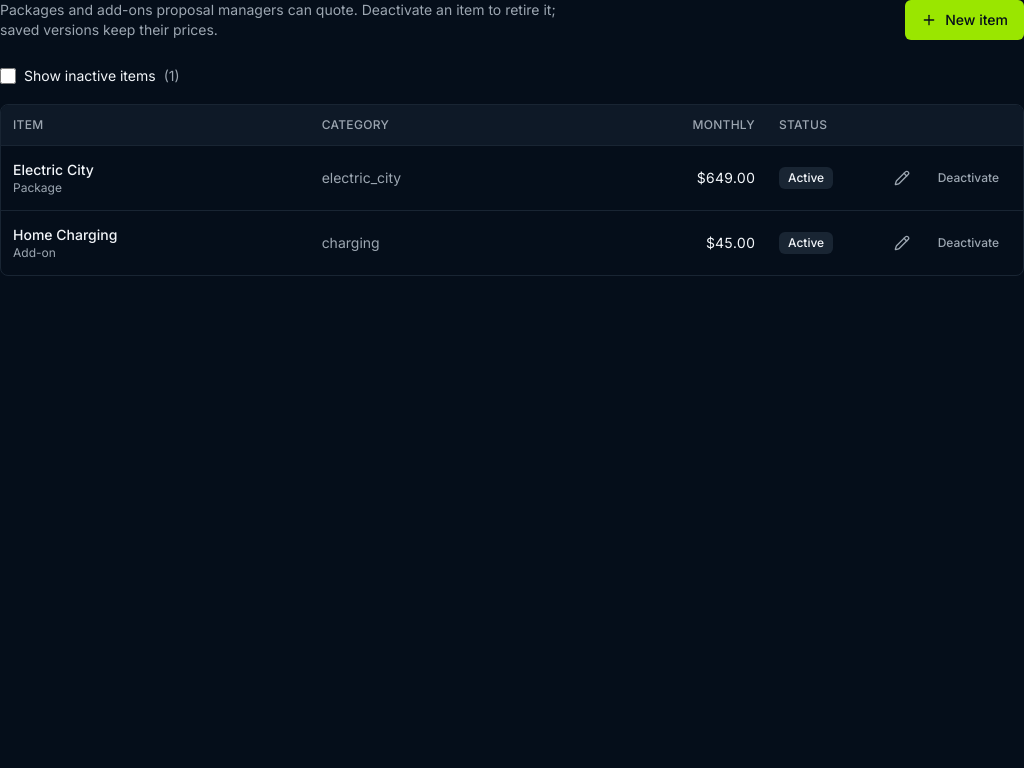
Test: CataloguePanel › shows the API error inside the edit dialog
What coordinates should you click on to do the following:
click the button named "Edit Electric City"
I would click on:
 (902, 178)
Its box is 882,158 -> 922,198.
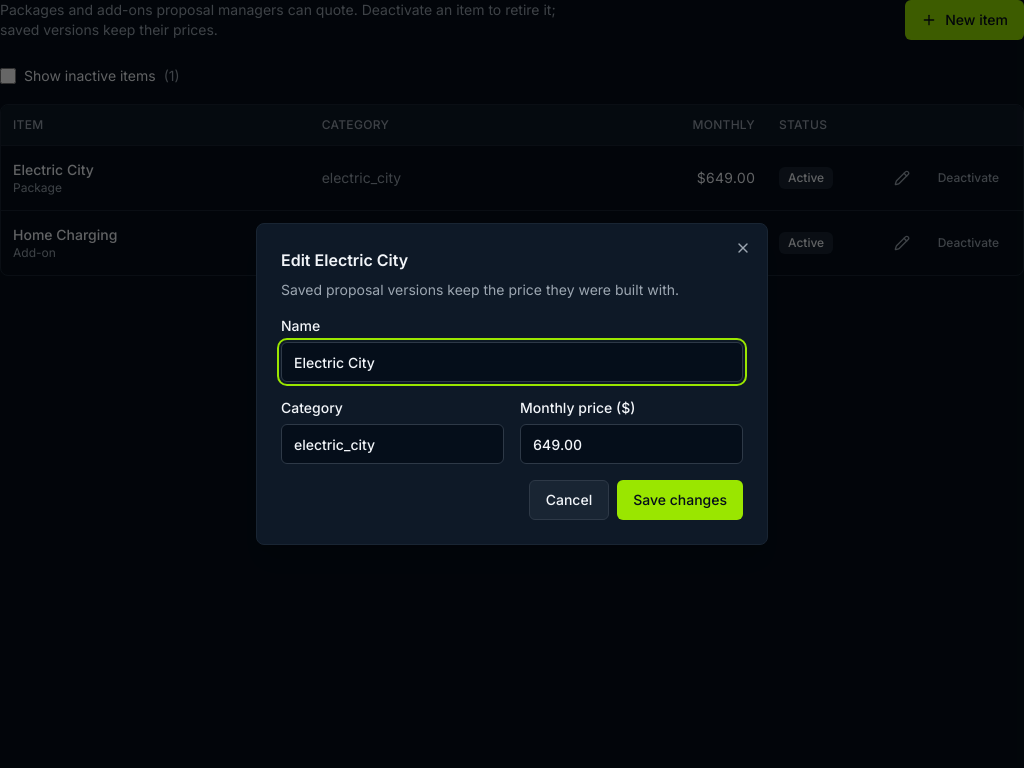
What coordinates should you click on to do the following:
click the button "Save changes"
I would click on:
 (680, 500)
Its box is 617,480 -> 743,520.
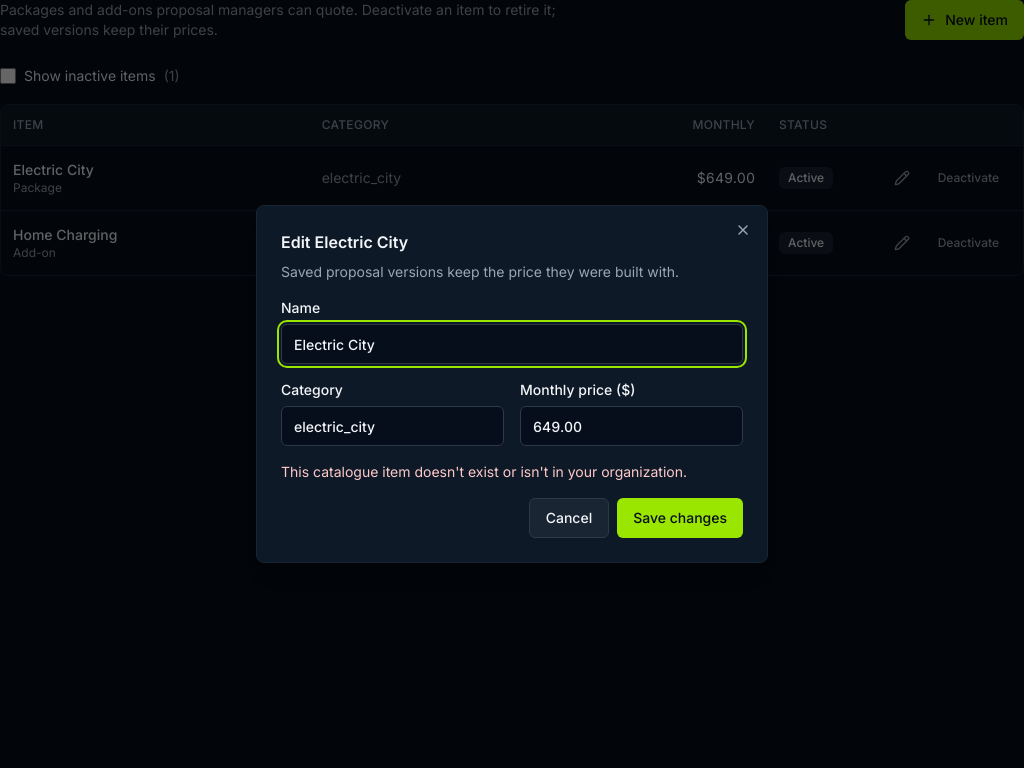
Result: the text "This catalogue item doesn't exist or isn't in your organization." is shown at 281,462 -> 743,482
